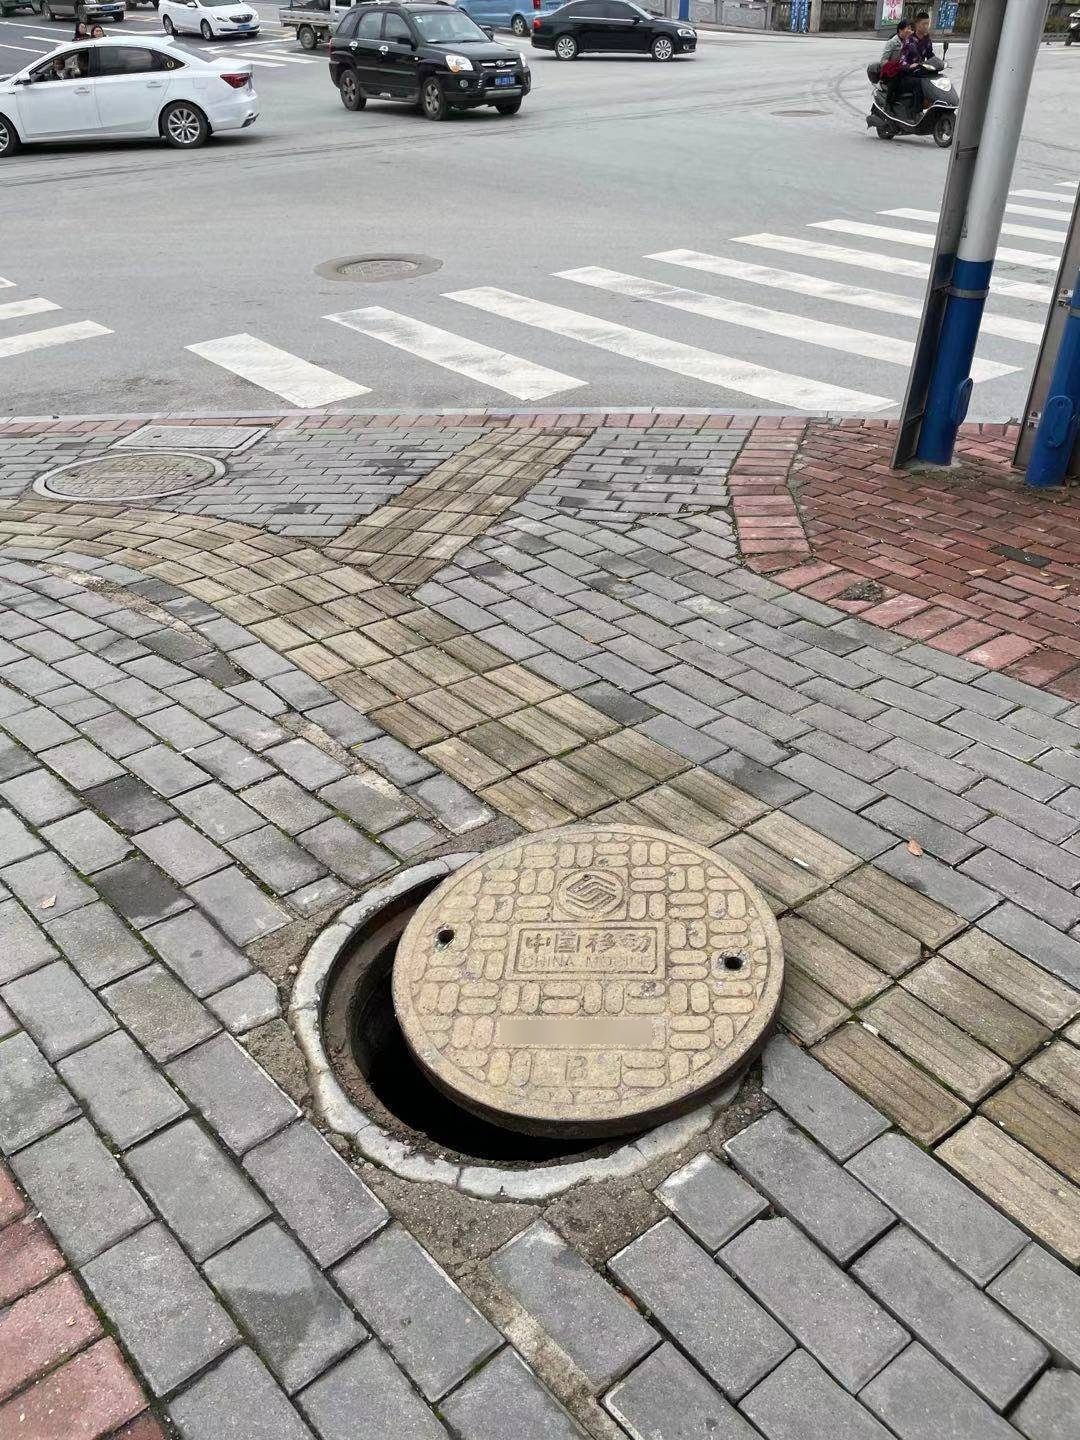uncovered: (289, 822, 787, 1200)
